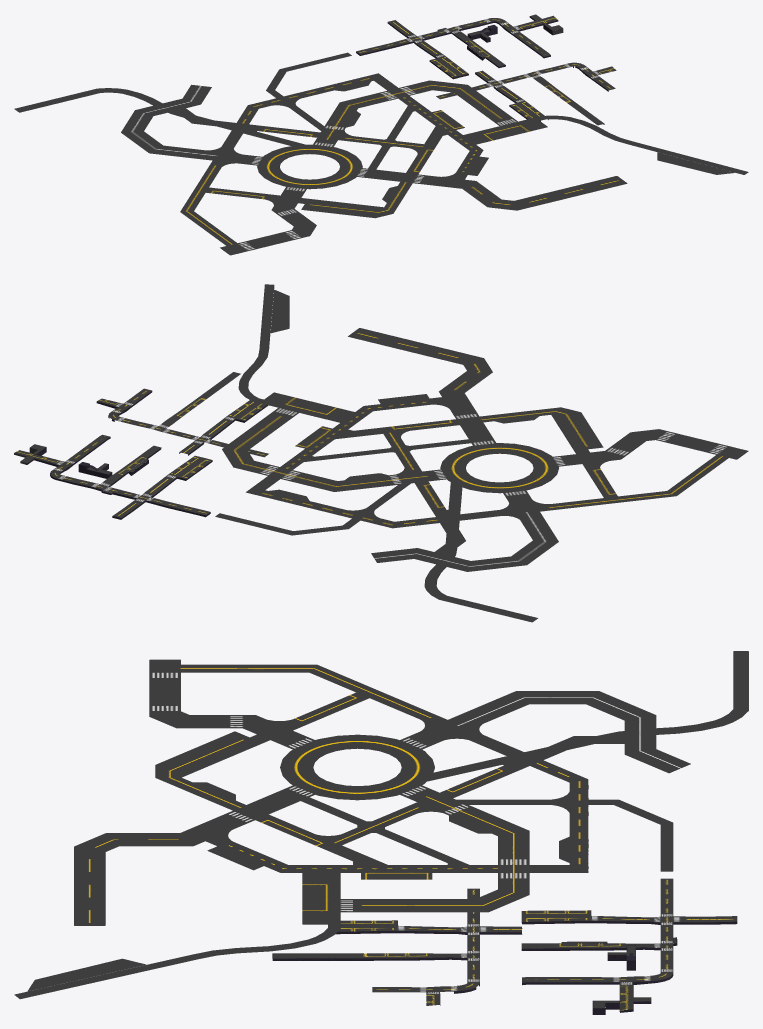
The model's file is Streets.fbx.
The picture shows the model from 3 angles, top to bottom: view 1: azimuth 30°, elevation 25°; view 2: azimuth 150°, elevation 25°; view 3: azimuth 270°, elevation 25°; orthographic projection. The views are drawn at different scales.
Visible parts, largest first — view 1: Streets, Streets.002; view 2: Streets, Streets.002; view 3: Streets, Streets.002.
Boxes of the visible parts, x1,y1,x2,y2 form: Streets: [14, 52, 748, 255]; Streets.002: [356, 14, 616, 125]; Streets: [215, 284, 748, 622]; Streets.002: [14, 372, 268, 519]; Streets: [14, 651, 748, 999]; Streets.002: [272, 878, 737, 1014].
Size of the model in its own units: 5482 by 110 by 4755.
